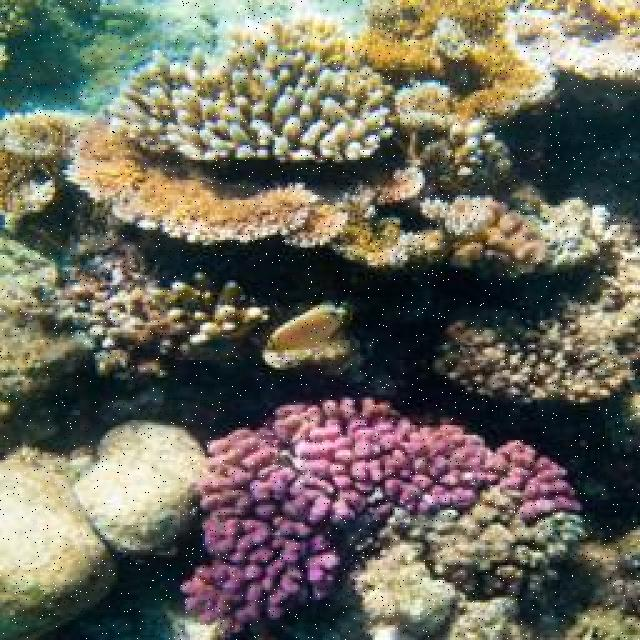reefs: (180, 393, 588, 635), (114, 12, 399, 164), (433, 218, 638, 405), (34, 225, 269, 381)
